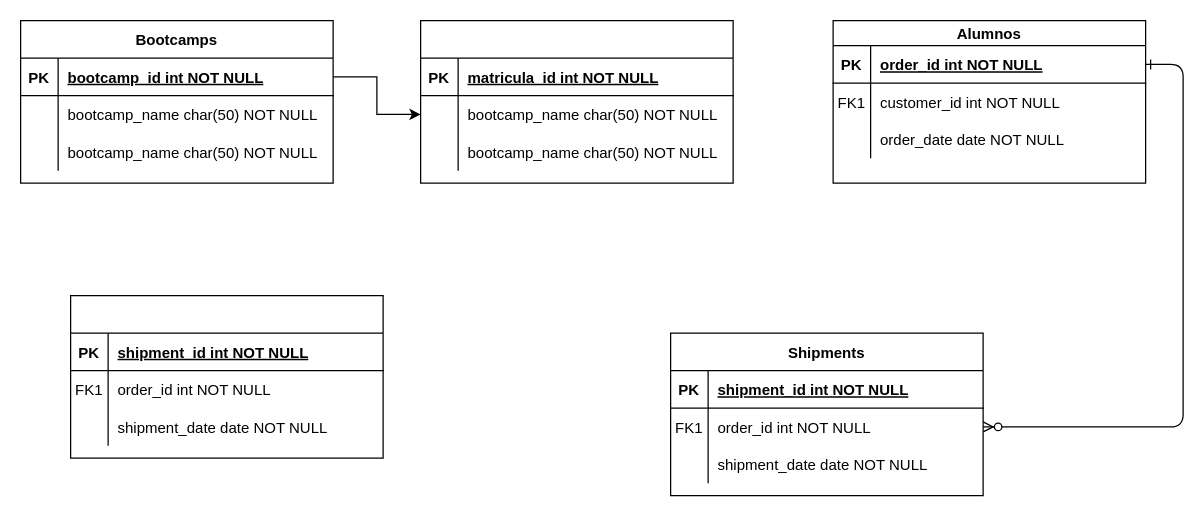
The diagram is 1204 pixels wide and 516 high, and some of its shapes have lost their labels. Each missing label, with the box of its shape:
Matriculas: (419, 19, 733, 183)
Modulos: (69, 294, 383, 458)
